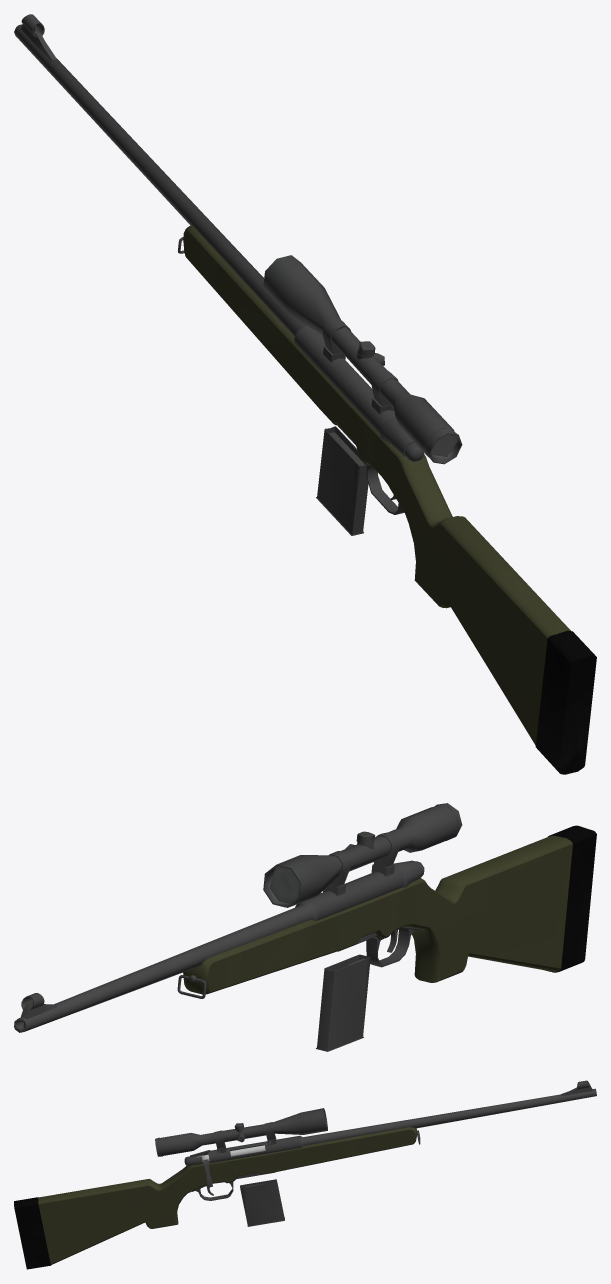
Rendered from snip_lo.glb.
The picture shows the model from 3 angles, top to bottom: view 1: azimuth 30°, elevation 25°; view 2: azimuth 150°, elevation 25°; view 3: azimuth 270°, elevation 25°; orthographic projection. The views are drawn at different scales.
Parts seen in each view (by area): view 1: Stock, Barrel, Scope, Magazine; view 2: Stock, Barrel, Scope, Magazine, IronSight; view 3: Stock, Barrel, Scope, Magazine, Bolt.
Part boxes in pixels (box(x1,y1,x2,y2)): Stock: box(183, 225, 596, 774); Barrel: box(14, 24, 414, 514); Scope: box(263, 255, 462, 464); Magazine: box(316, 426, 368, 535); Stock: box(183, 825, 596, 994); Barrel: box(14, 860, 422, 1032); Scope: box(263, 803, 462, 907); Magazine: box(316, 954, 370, 1051); IronSight: box(21, 993, 57, 1018); Stock: box(14, 1127, 417, 1269); Barrel: box(190, 1088, 596, 1200); Scope: box(155, 1108, 327, 1156); Magazine: box(240, 1179, 284, 1226); Bolt: box(184, 1145, 265, 1187).
Bounding box in the file's own units: 0.0568 × 0.3966 × 1.12.
1 material, 1 textured.
